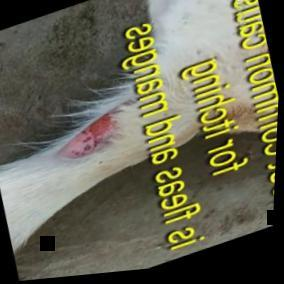skin_lesions: (50, 112, 128, 172)
